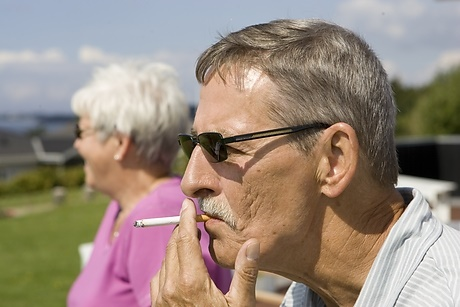cigarette: (127, 215, 216, 230)
